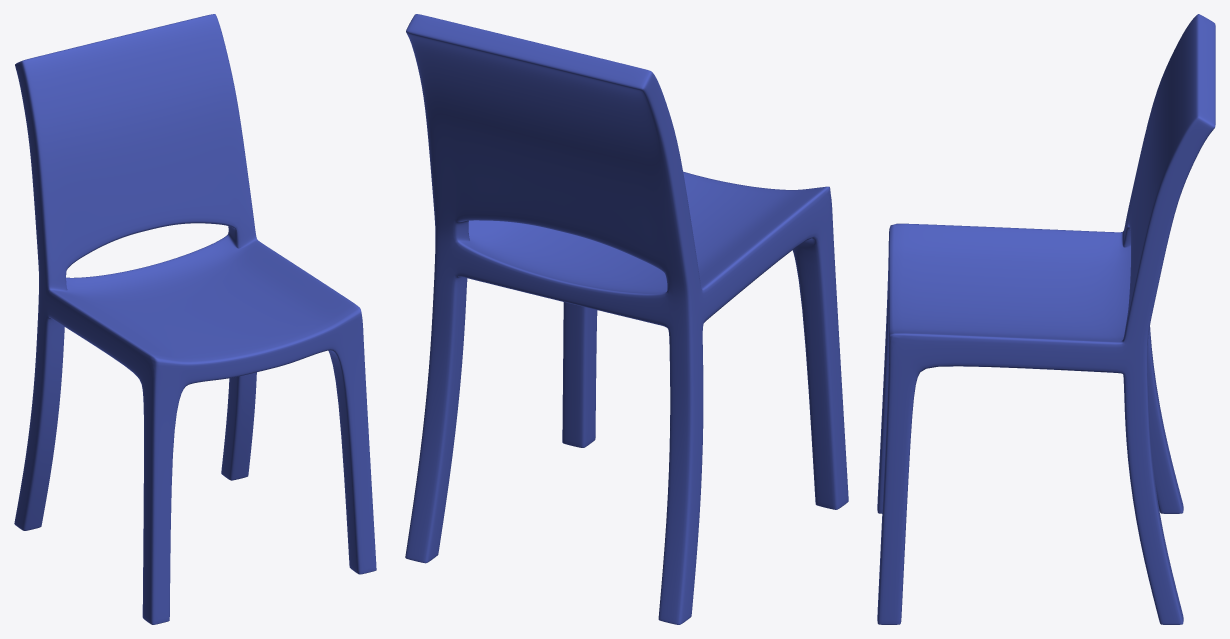
Rendered from chair.fbx.
3 views of the same model, side by side, from view 1: azimuth 30°, elevation 25°; view 2: azimuth 150°, elevation 25°; view 3: azimuth 270°, elevation 25° (orthographic). The views are drawn at different scales.
Visible parts, largest first — view 1: Chair; view 2: Chair; view 3: Chair.
Part boxes in pixels (x1,y1,x2,y2): Chair: [14, 14, 376, 624]; Chair: [405, 14, 848, 624]; Chair: [877, 14, 1215, 624].
Bounding box in the file's own units: 9.24 × 17.8 × 10.9.
